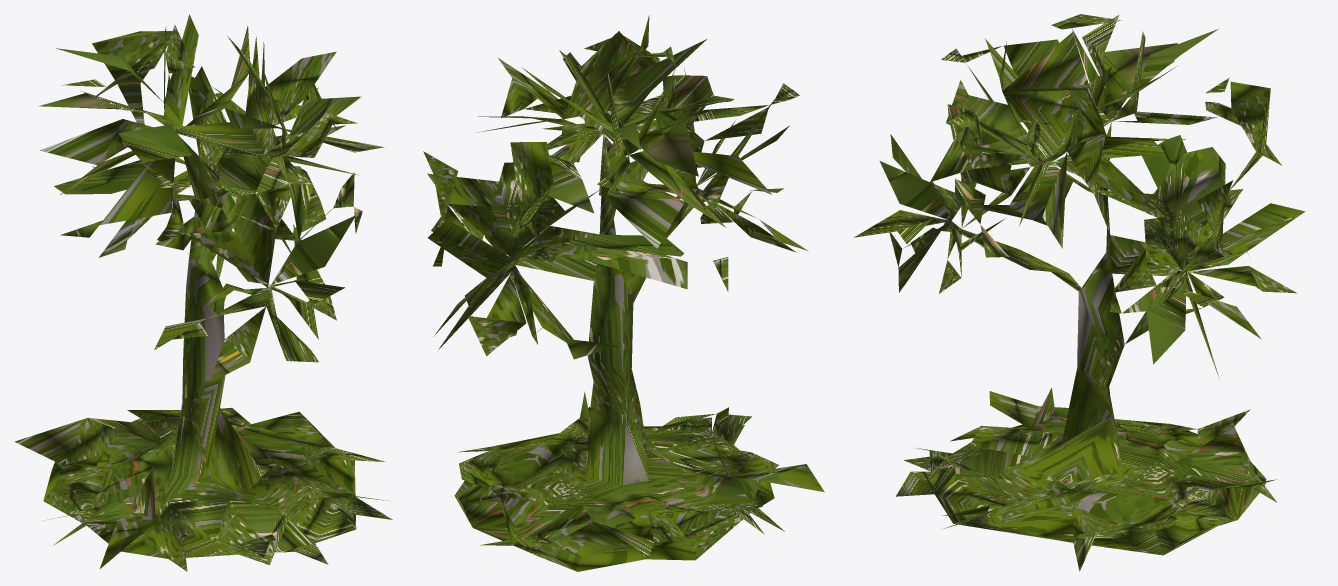
File: frangipani-far.glb
The picture shows the model from 3 angles, left to right: view 1: azimuth 30°, elevation 25°; view 2: azimuth 150°, elevation 25°; view 3: azimuth 270°, elevation 25°; orthographic projection. The views are drawn at different scales.
Parts seen in each view (by area): view 1: tripo_node_8a9b8884-68e6-4e0d-8c6d-afdf12699f39; view 2: tripo_node_8a9b8884-68e6-4e0d-8c6d-afdf12699f39; view 3: tripo_node_8a9b8884-68e6-4e0d-8c6d-afdf12699f39.
Part boxes in pixels (x1,y1,x2,y2): tripo_node_8a9b8884-68e6-4e0d-8c6d-afdf12699f39: (14, 14, 392, 571); tripo_node_8a9b8884-68e6-4e0d-8c6d-afdf12699f39: (423, 15, 824, 571); tripo_node_8a9b8884-68e6-4e0d-8c6d-afdf12699f39: (854, 14, 1305, 571).
Bounding box in the file's own units: 0.3667 × 0.4924 × 0.4513.
1 material, 1 textured.
